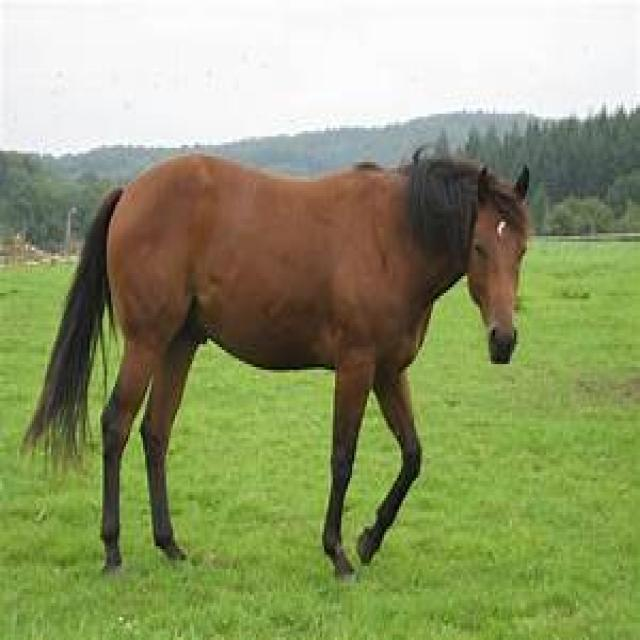horse: (25, 155, 529, 576)
